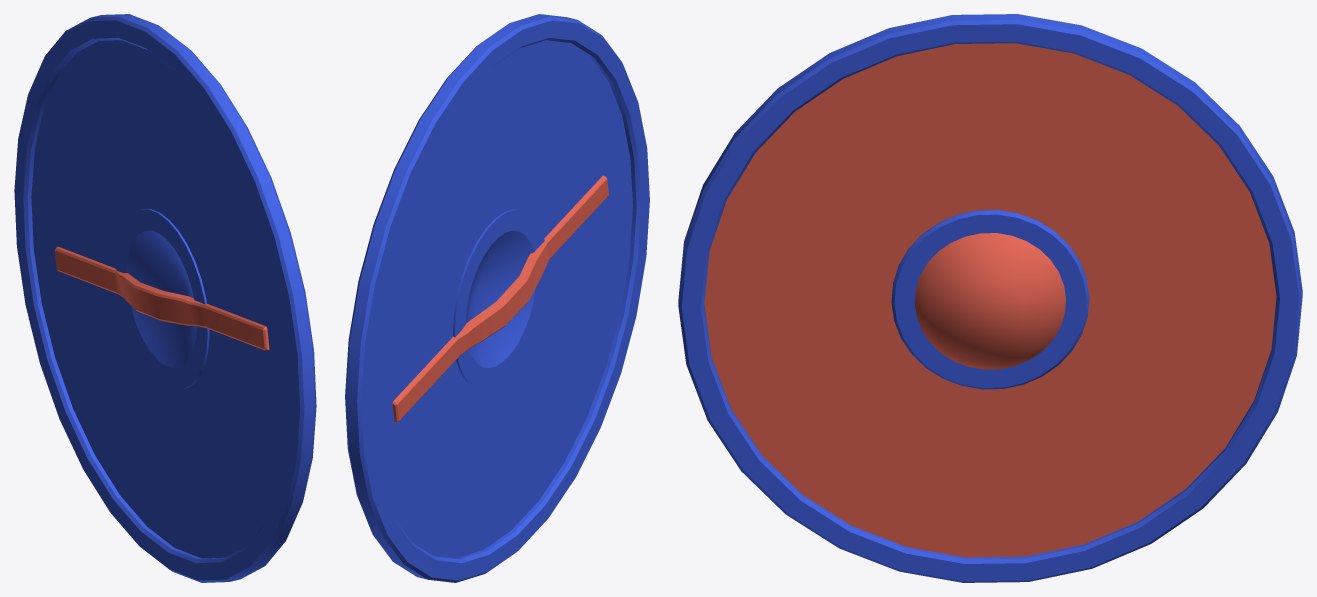
Rendered from V shild.fbx.
3 renders of one model, left to right at view 1: azimuth 30°, elevation 25°; view 2: azimuth 150°, elevation 25°; view 3: azimuth 270°, elevation 25°, orthographic. The views are drawn at different scales.
Parts seen in each view (by area): view 1: SHIELD1_LOD0; view 2: SHIELD1_LOD0; view 3: SHIELD1_LOD0.
Part boxes in pixels (x1,y1,x2,y2): SHIELD1_LOD0: (14, 14, 316, 582); SHIELD1_LOD0: (345, 14, 649, 582); SHIELD1_LOD0: (678, 14, 1302, 582).
Bounding box in the file's own units: 24.01 × 234 × 235.
